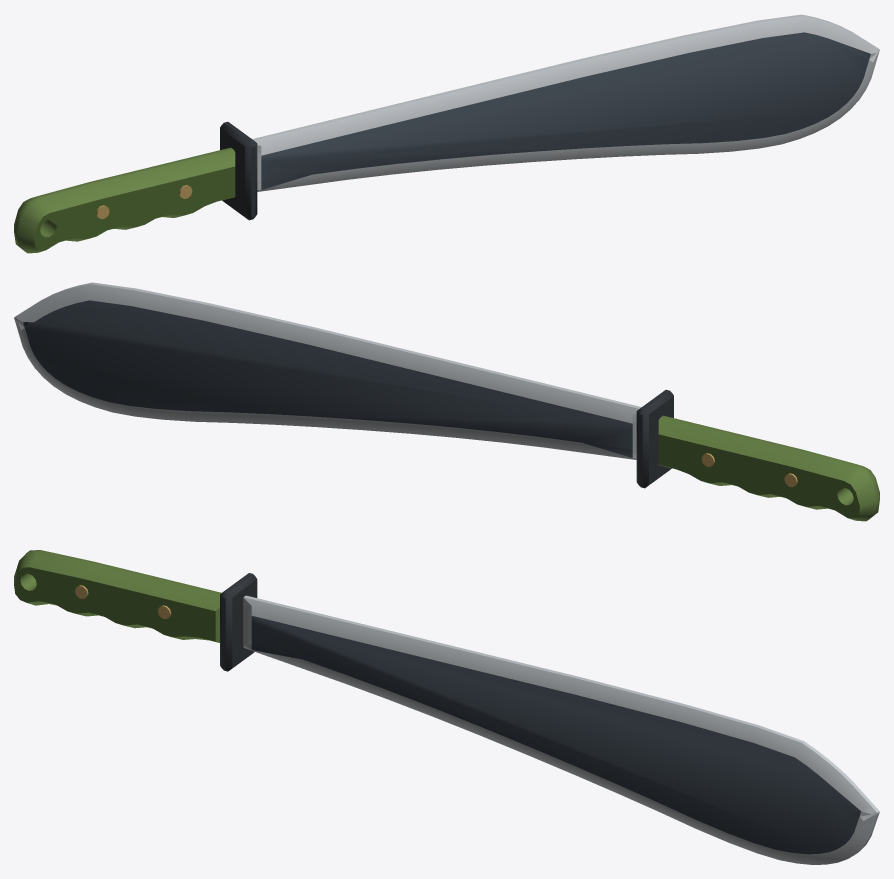
File: sword_machete.glb
3 renders of one model, top to bottom at view 1: azimuth 30°, elevation 25°; view 2: azimuth 150°, elevation 25°; view 3: azimuth 330°, elevation 25°, orthographic.
Parts seen in each view (by area): view 1: sword_machete; view 2: sword_machete; view 3: sword_machete.
Part boxes in pixels (x1,y1,x2,y2): sword_machete: (14,14,879,253); sword_machete: (14,282,879,521); sword_machete: (14,550,879,864).
Bounding box in the file's own units: 1.25 × 0.2001 × 0.075.
